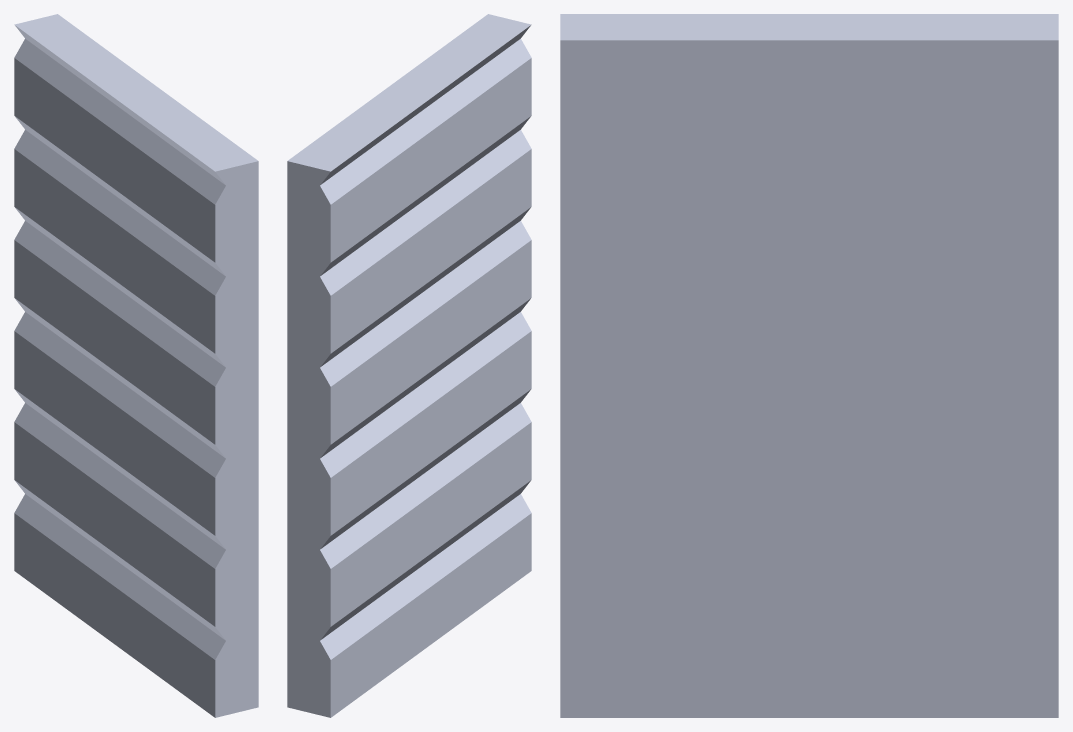
The picture shows the model from 3 angles, left to right: view 1: azimuth 30°, elevation 25°; view 2: azimuth 150°, elevation 25°; view 3: azimuth 270°, elevation 25°; orthographic projection. The views are drawn at different scales.
Visible parts, largest first — view 1: object_044; view 2: object_044; view 3: object_044.
Part boxes in pixels (x1,y1,x2,y2): object_044: [14, 14, 258, 717]; object_044: [287, 14, 531, 717]; object_044: [560, 14, 1058, 717].
Bounding box in the file's own units: 0.0625 × 0.75 × 0.5.
